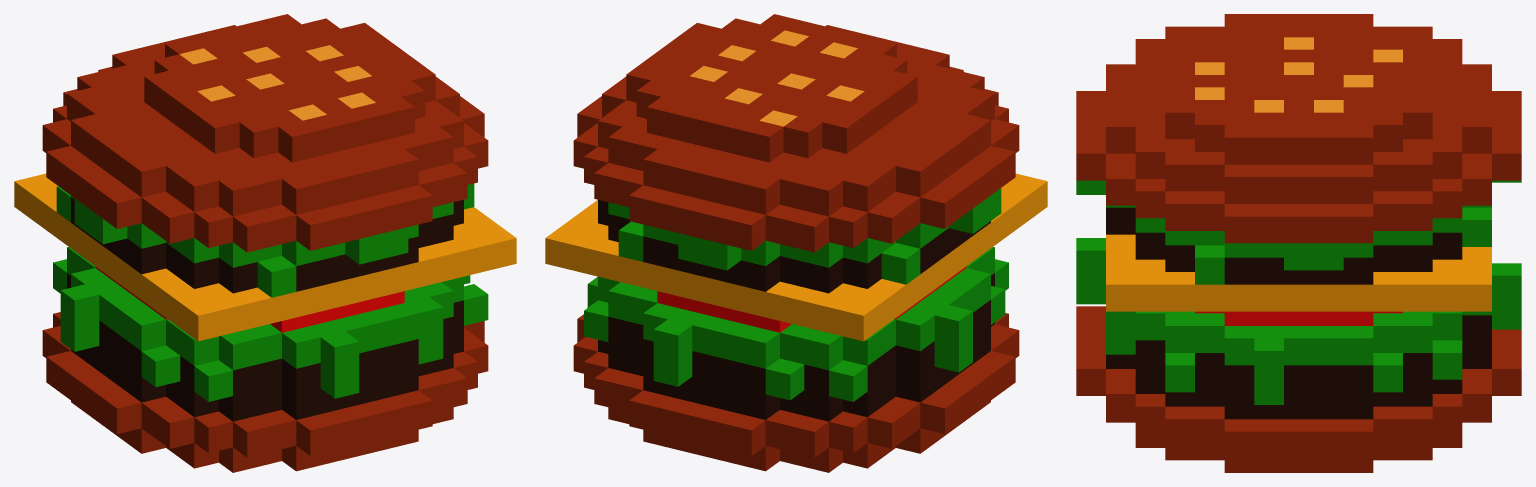
File: hamburger.obj
The picture shows the model from 3 angles, left to right: view 1: azimuth 30°, elevation 25°; view 2: azimuth 150°, elevation 25°; view 3: azimuth 270°, elevation 25°; orthographic projection. The views are drawn at different scales.
Parts seen in each view (by area): view 1: Cube.1009_Cube.14884; view 2: Cube.1009_Cube.14884; view 3: Cube.1009_Cube.14884.
Part boxes in pixels (left/top/right/bottom): Cube.1009_Cube.14884: left=14, top=14, right=516, bottom=472; Cube.1009_Cube.14884: left=545, top=14, right=1047, bottom=472; Cube.1009_Cube.14884: left=1076, top=14, right=1521, bottom=472.
Bounding box in the file's own units: 0.9375 × 0.75 × 0.9375.
